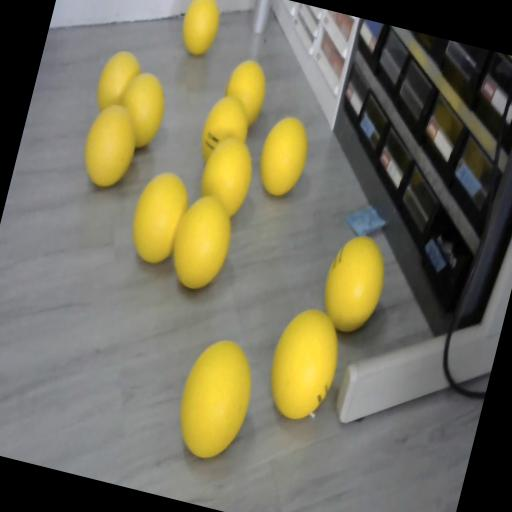FUEL: (168, 332, 264, 464), (258, 300, 348, 426), (315, 230, 393, 338), (164, 190, 240, 294), (123, 166, 195, 268), (76, 99, 145, 193), (192, 131, 261, 220), (252, 112, 316, 201), (218, 56, 274, 128), (92, 46, 146, 119), (175, 0, 225, 59)
